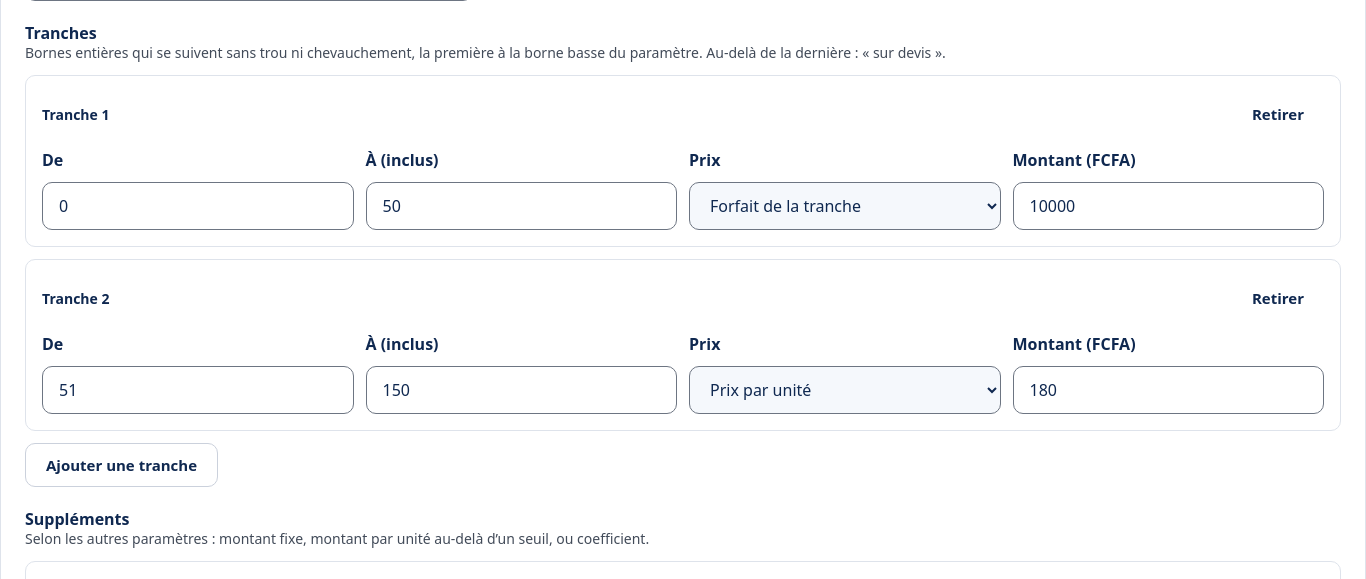
Test case: tarif d’une offre › brouillon existant : modifié par PUT ; refus d’un champ placé sous la tranche
(page scrolled)
Replace the text in the 2nd field labelled "À (inclus)" with "1500000": (521, 390) top-left (366, 366), bottom-right (677, 414)
(page scrolled)
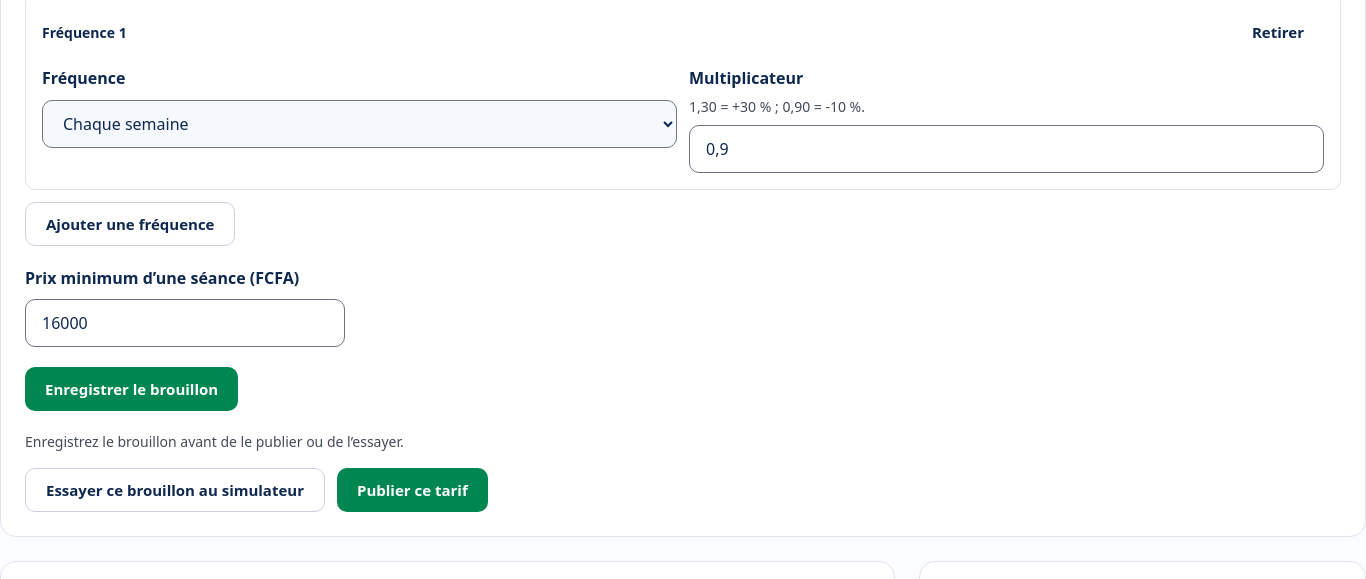
Click the button "Enregistrer le brouillon": (132, 389) top-left (25, 367), bottom-right (238, 411)
(page scrolled)
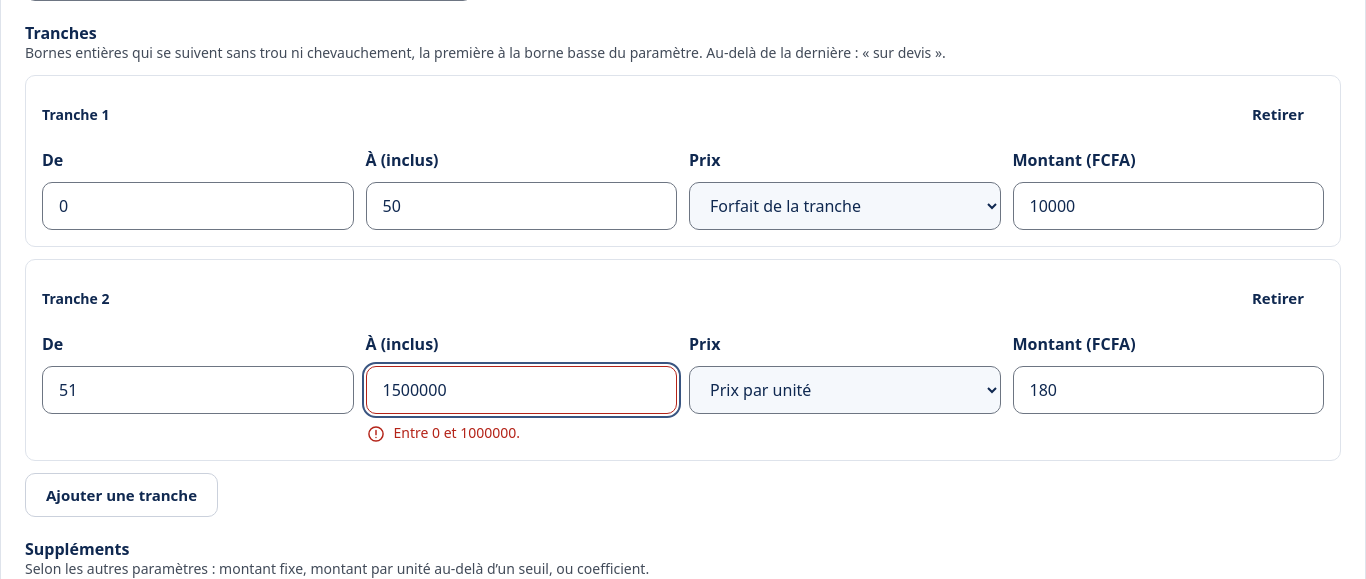
Now the text "Entre 0 et 1000000." is shown, box top-left (394, 422), bottom-right (520, 443)
Replace the text in the 2nd field labelled "À (inclus)" with "300": (521, 390) top-left (366, 366), bottom-right (677, 414)
(page scrolled)
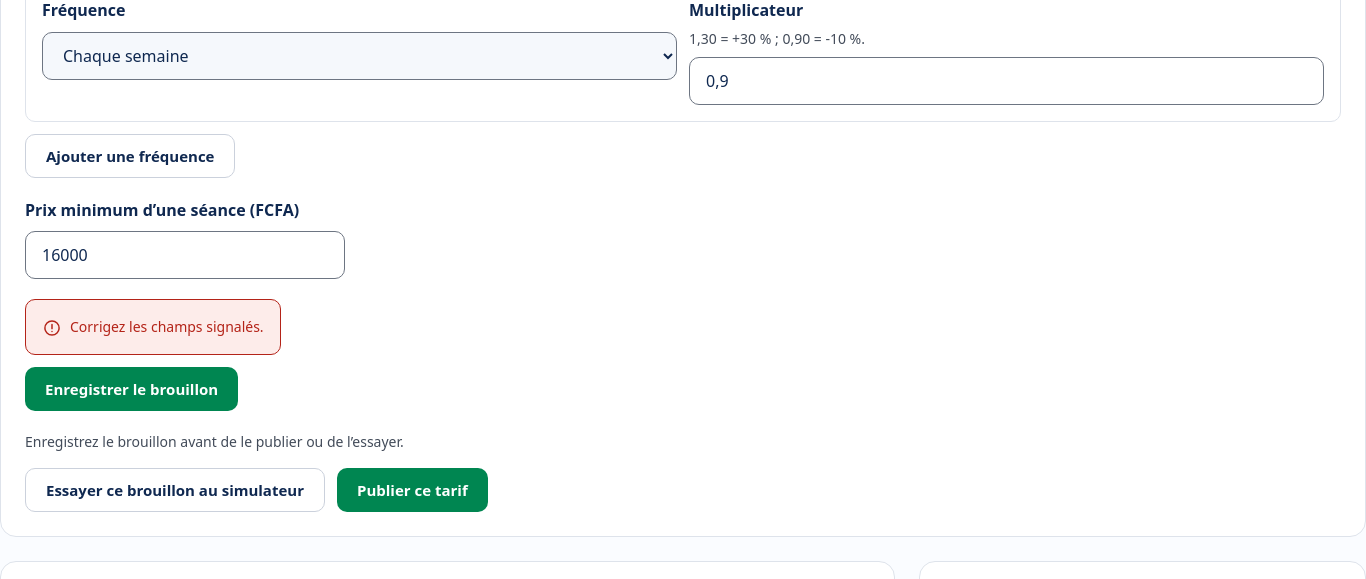
Click the button "Enregistrer le brouillon": (132, 389) top-left (25, 367), bottom-right (238, 411)
(page scrolled)
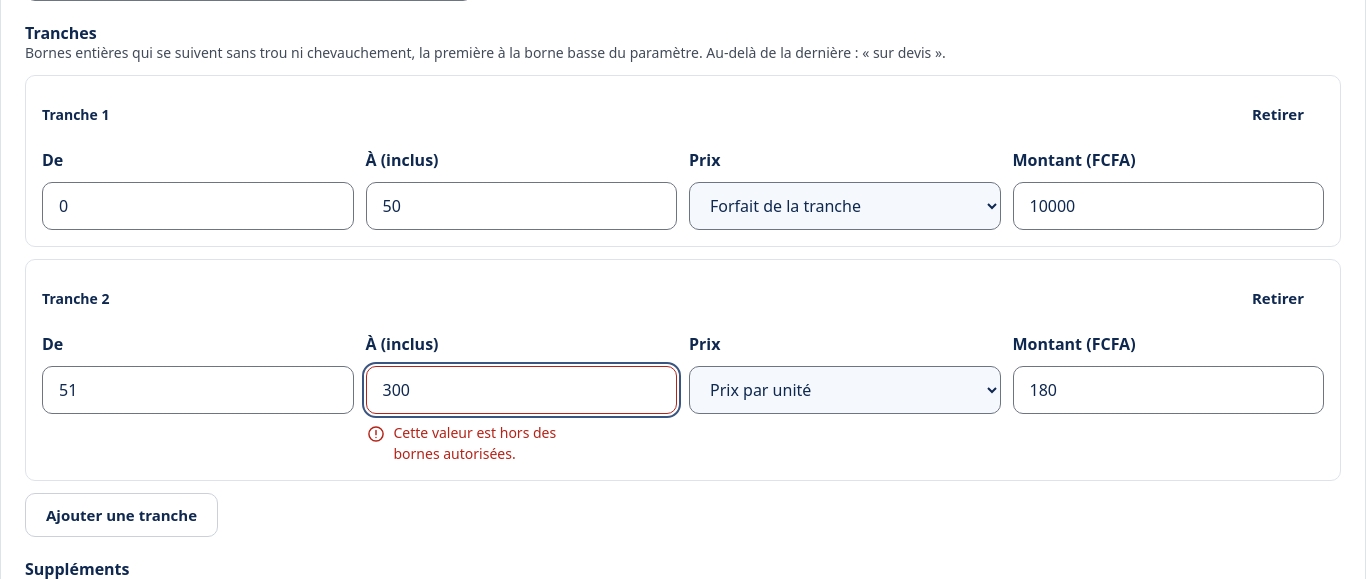
Now the text "Cette valeur est hors des bornes autorisées." is shown, box top-left (394, 423), bottom-right (556, 463)
